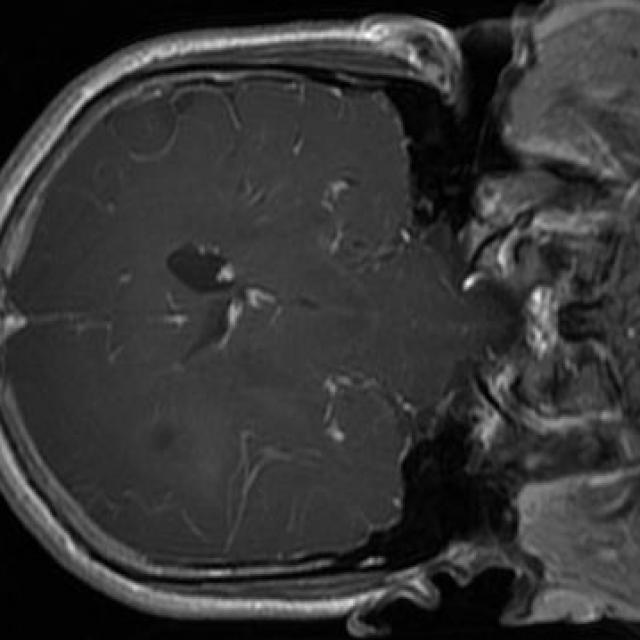glioma: (144, 414, 196, 462)
